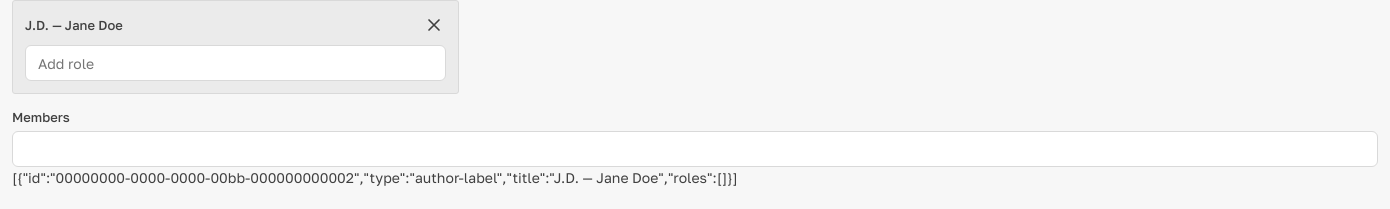
MemberRoleEditor › closes the roles on Escape
Click the dropdown named "Role for J.D. — Jane Doe".
click(236, 63)  # box [25, 45, 446, 81]
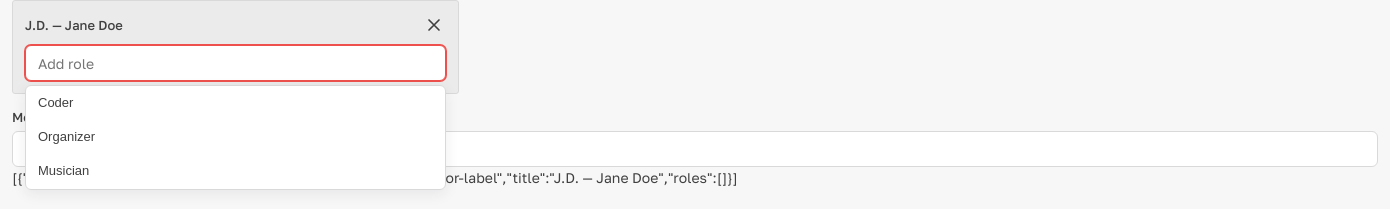
Press Escape
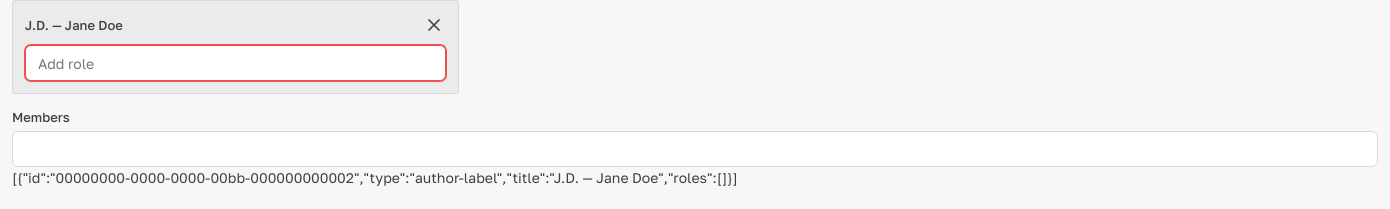
Now the list is gone
